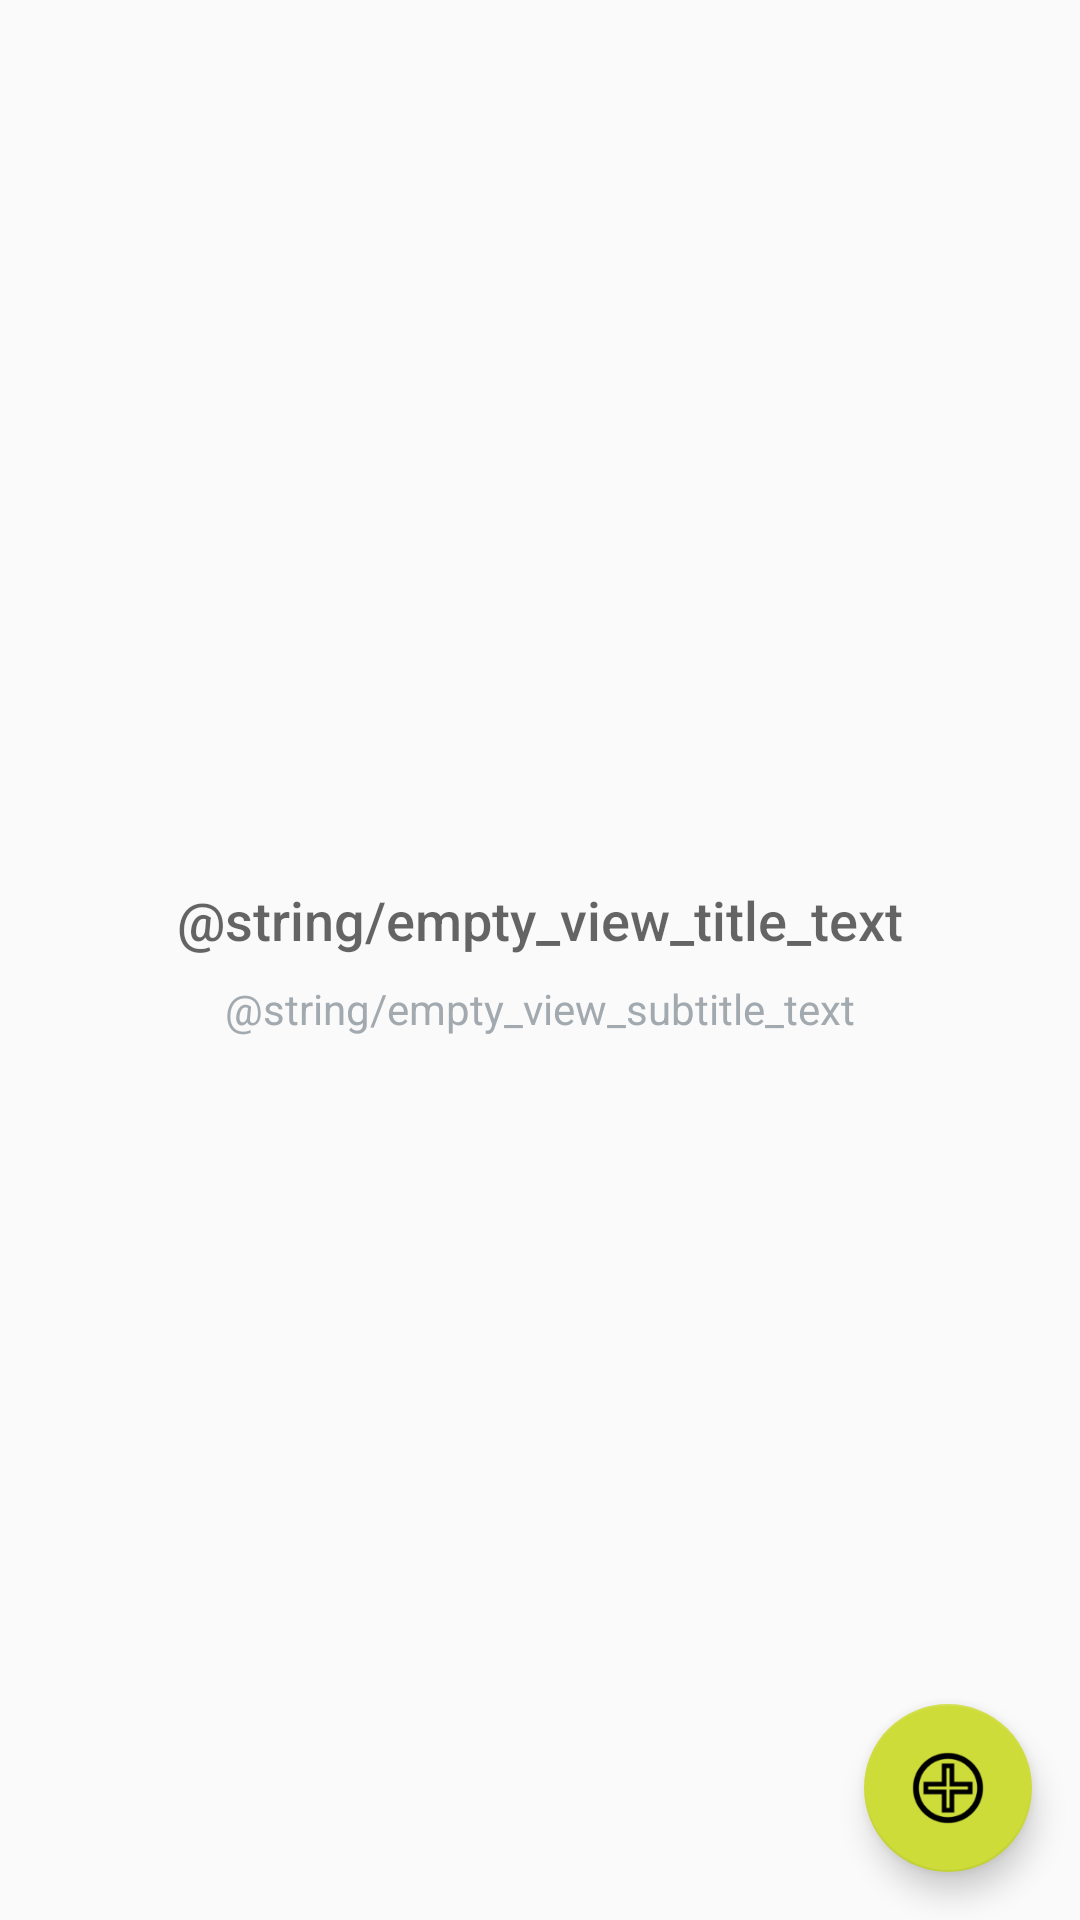

Point at icon controls on the screen. Image size 1080px x 1920px, points as point (x, y).
add product: point (948, 1788)
